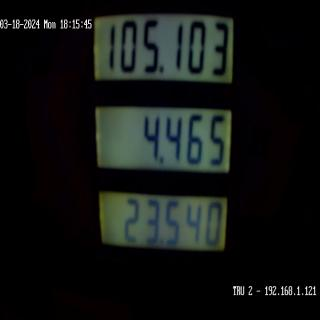screen: (89, 1, 243, 289)
